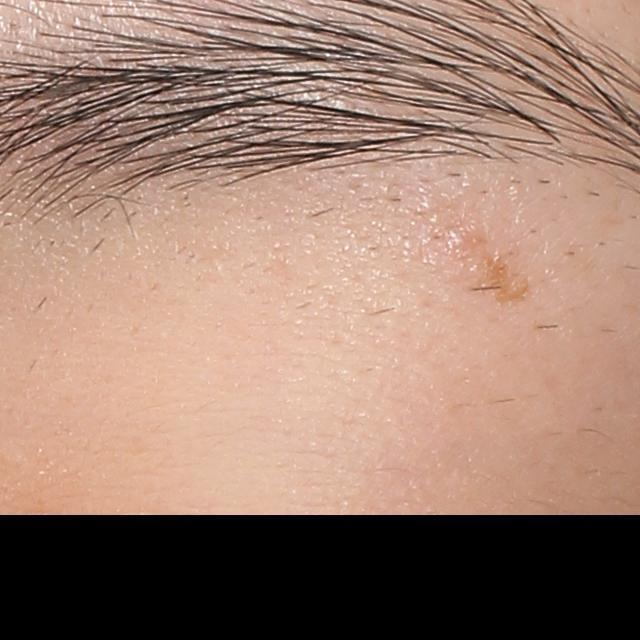melasma: (485, 249, 532, 309)
